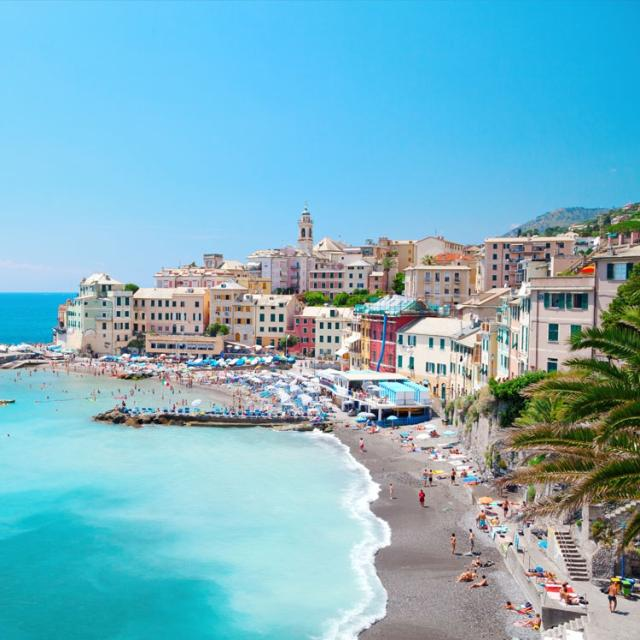body: (3, 356, 337, 422), (521, 568, 589, 605), (423, 445, 474, 465), (27, 339, 75, 358), (351, 386, 389, 402), (390, 433, 417, 453), (518, 612, 543, 630), (606, 580, 619, 613), (504, 600, 534, 614), (456, 567, 474, 583), (354, 421, 376, 434), (469, 574, 488, 589), (477, 508, 486, 533), (488, 516, 500, 534), (500, 497, 510, 518), (468, 528, 475, 554), (482, 499, 493, 515), (435, 471, 451, 482), (449, 532, 456, 556), (417, 488, 425, 508), (427, 428, 440, 440), (426, 468, 434, 487), (412, 423, 428, 432), (611, 609, 631, 616), (449, 468, 456, 486), (520, 500, 529, 514), (475, 553, 483, 568), (422, 468, 428, 487), (358, 437, 364, 454), (388, 482, 393, 500), (471, 569, 478, 581), (462, 469, 468, 479)
